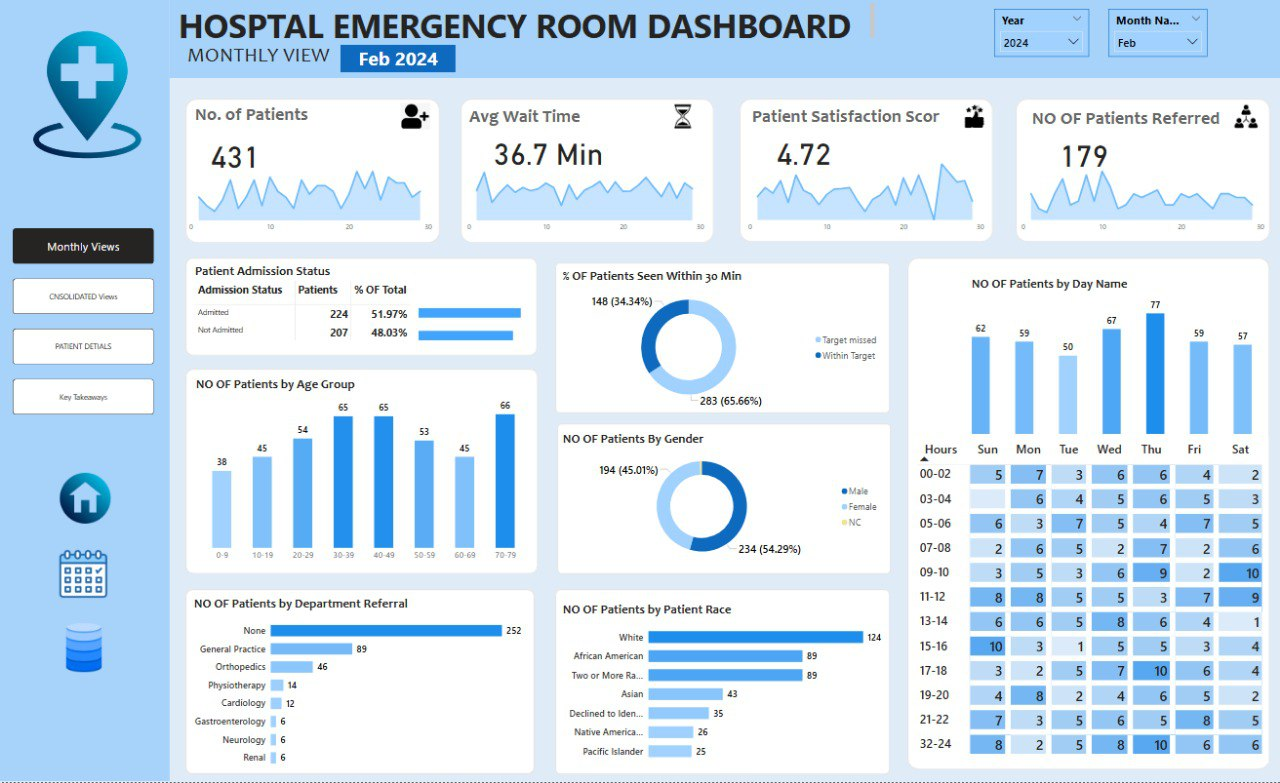

This screenshot's page, from the dashboard's own definition file:
{"tool":"powerbi","page":{"name":"Monthly Views","canvas":[2300,1400],"ordinal":0},"visuals":[{"type":"shape","box":[0,0,309.3,1399.9],"z":0},{"type":"shape","box":[309.3,0,1990.7,139.8],"z":1000},{"type":"textbox","box":[319.8,0,1256.6,80.4],"z":2000},{"type":"textbox","box":[335.6,69.9,304.1,61.2],"z":3000},{"type":"slicer","fields":{"Values":["Date Table.Year"]},"box":[1786.2,15.7,169.5,85.6],"z":4000},{"type":"shape","box":[336.5,176.5,456,259.2],"z":5000},{"type":"slicer","fields":{"Values":["Date Table.Month Name"]},"box":[1990.7,15.7,178.3,85.6],"z":6000},{"type":"card","fields":{"Values":["Hospital ER_Data.NO OF Patients"]},"box":[350.2,238.3,153.5,72.2],"z":7000},{"type":"textbox","box":[350.2,180.5,290.7,50.5],"z":8000},{"type":"areaChart","fields":{"Category":["Date Table.Date.Variation.Date Hierarchy.Day"],"Y":["Hospital ER_Data.NO OF Patients"]},"box":[332.2,278,454.9,146.2],"z":9000},{"type":"card","fields":{"Values":["Min(Date Table.MONTH & YEAR)"]},"box":[615.7,80.5,206.4,49],"z":10000},{"type":"shape","box":[831,176.5,454.1,259.2],"z":11000},{"type":"card","fields":{"Values":["Hospital ER_Data.Avg Wait Time"]},"box":[879.2,232.9,216.6,72.2],"z":12000},{"type":"textbox","box":[841.3,184.1,290.7,50.5],"z":13000},{"type":"areaChart","fields":{"Category":["Date Table.Date.Variation.Date Hierarchy.Day"],"Y":["Avg(Hospital ER_Data.Patient Waittime)"]},"box":[830.5,279.8,444.1,144.4],"z":14000},{"type":"shape","box":[1329.3,176.5,454.1,257.4],"z":15000},{"type":"card","fields":{"Values":["Hospital ER_Data.Satisfaction Score"]},"box":[1368.4,234.7,153.5,70.4],"z":16000},{"type":"textbox","box":[1346.8,184.1,417,43.3],"z":17000},{"type":"areaChart","fields":{"Category":["Date Table.Date.Variation.Date Hierarchy.Day"],"Y":["Hospital ER_Data.Satisfaction Score"]},"box":[1334.1,279.8,442.3,144.4],"z":18000},{"type":"shape","box":[1823.8,176.5,456,257.4],"z":19000},{"type":"card","fields":{"Values":["Hospital ER_Data.NO OF Patients Referred"]},"box":[1870.3,238.3,153.5,70.4],"z":20000},{"type":"textbox","box":[1848.7,187.8,375.5,52.4],"z":21000},{"type":"areaChart","fields":{"Category":["Date Table.Date.Variation.Date Hierarchy.Day"],"Y":["Hospital ER_Data.NO OF Patients Referred"]},"box":[1823.4,279.8,454.9,144.4],"z":22000},{"type":"shape","box":[336.5,461.5,630.6,176.5],"z":23000},{"type":"pivotTable","title":"Patient Admission Status","fields":{"Rows":["Hospital ER_Data.Admission Status"],"Values":["Hospital ER_Data.NO OF Patients","Divide(Hospital ER_Data.NO OF Patients, ScopedEval(Hospital ER_Data.NO OF Patients, []))"]},"box":[349.3,470.7,421,156.3],"z":24000},{"type":"barChart","fields":{"Category":["Hospital ER_Data.Admission Status"],"Y":["Hospital ER_Data.NO OF Patients"]},"box":[750.1,518.5,255.6,119.5],"z":25000},{"type":"shape","box":[337.6,660.8,631.9,368.3],"z":26000},{"type":"clusteredColumnChart","fields":{"Category":["Hospital ER_Data.Age Group"],"Y":["Hospital ER_Data.NO OF Patients"]},"box":[352,673.4,612,343],"z":27000},{"type":"shape","box":[337.3,1055.6,625.7,332.1],"z":28000},{"type":"clusteredBarChart","fields":{"Category":["Hospital ER_Data.Department Referral"],"Y":["Hospital ER_Data.NO OF Patients"]},"box":[348.4,1067,599.4,321.4],"z":29000},{"type":"shape","box":[1000,470.9,600,270.9],"z":30000},{"type":"donutChart","title":"% OF Patients Seen Within 30 Min ","fields":{"Category":["Hospital ER_Data.Waittime Status"],"Y":["Hospital ER_Data.NO OF Patients"]},"box":[1009.1,478.2,581.8,258.2],"z":31000},{"type":"shape","box":[1003.6,758.2,598.2,270.9],"z":32000},{"type":"donutChart","title":"NO OF Patients By Gender","fields":{"Y":["Hospital ER_Data.NO OF Patients"],"Category":["Hospital ER_Data.Patient Gender"]},"box":[1009.1,770.9,581.8,245.5],"z":33000},{"type":"shape","box":[1000,1056.4,600,332.7],"z":34000},{"type":"clusteredBarChart","fields":{"Y":["Hospital ER_Data.NO OF Patients"],"Category":["Hospital ER_Data.Patient Race"]},"box":[1009.1,1076.4,581.8,300],"z":35000},{"type":"shape","box":[1630.9,461.8,649.1,918.2],"z":36000},{"type":"pivotTable","fields":{"Rows":["Hospital ER_Data.Waittime Interval"],"Columns":["Date Table.Day Name"],"Values":["Hospital ER_Data.NO OF Patients"]},"box":[1643.6,783.6,634.5,585.5],"z":37000},{"type":"columnChart","fields":{"Category":["Date Table.Day Name"],"Y":["Hospital ER_Data.NO OF Patients"]},"box":[1740,492.7,514.5,290.9],"z":38000},{"type":"image","box":[1716.3,180,68.2,57],"z":39000},{"type":"image","box":[714.8,180,68.2,57],"z":40000},{"type":"image","box":[2196.9,180,80.4,57],"z":41000},{"type":"image","box":[1193.7,180,68,57],"z":42000},{"type":"image","box":[41.9,40.2,239.4,258.7],"z":43000},{"type":"pageNavigator","box":[28,409,253.4,337.3],"z":44000},{"type":"image","box":[94.4,1111.6,122.3,97.9],"z":45000},{"type":"image","box":[73.4,979.6,162.5,96.1],"z":46000},{"type":"image","box":[80.4,842.4,155.5,101.4],"z":47000}]}

Visuals, with their boxes in screenshot pixels (x1, y1, x2, y2), scaled from the page's 2300x1400 canvas onto the 1280x783 screenshot:
shape: [0, 0, 172, 782]
shape: [172, 0, 1279, 78]
textbox: [178, 0, 877, 45]
textbox: [187, 39, 356, 73]
slicer - Date Table.Year: [994, 9, 1088, 57]
shape: [187, 99, 441, 244]
slicer - Date Table.Month Name: [1108, 9, 1207, 57]
card - Hospital ER_Data.NO OF Patients: [195, 133, 280, 174]
textbox: [195, 101, 357, 129]
areaChart - Date Table.Date.Variation.Date Hierarchy.Day x Hospital ER_Data.NO OF Patients: [185, 155, 438, 237]
card - Min(Date Table.MONTH & YEAR): [343, 45, 458, 72]
shape: [462, 99, 715, 244]
card - Hospital ER_Data.Avg Wait Time: [489, 130, 610, 171]
textbox: [468, 103, 630, 131]
areaChart - Date Table.Date.Variation.Date Hierarchy.Day x Avg(Hospital ER_Data.Patient Waittime): [462, 156, 709, 237]
shape: [740, 99, 993, 243]
card - Hospital ER_Data.Satisfaction Score: [762, 131, 847, 171]
textbox: [750, 103, 982, 127]
areaChart - Date Table.Date.Variation.Date Hierarchy.Day x Hospital ER_Data.Satisfaction Score: [742, 156, 989, 237]
shape: [1015, 99, 1269, 243]
card - Hospital ER_Data.NO OF Patients Referred: [1041, 133, 1126, 173]
textbox: [1029, 105, 1238, 134]
areaChart - Date Table.Date.Variation.Date Hierarchy.Day x Hospital ER_Data.NO OF Patients Referred: [1015, 156, 1268, 237]
shape: [187, 258, 538, 357]
"Patient Admission Status" pivotTable: [194, 263, 429, 351]
barChart - Hospital ER_Data.Admission Status x Hospital ER_Data.NO OF Patients: [417, 290, 560, 357]
shape: [188, 370, 540, 576]
clusteredColumnChart - Hospital ER_Data.Age Group x Hospital ER_Data.NO OF Patients: [196, 377, 536, 568]
shape: [188, 590, 536, 776]
clusteredBarChart - Hospital ER_Data.Department Referral x Hospital ER_Data.NO OF Patients: [194, 597, 527, 777]
shape: [557, 263, 890, 415]
"% OF Patients Seen Within 30 Min " donutChart: [562, 267, 885, 412]
shape: [559, 424, 891, 576]
"NO OF Patients By Gender" donutChart: [562, 431, 885, 568]
shape: [557, 591, 890, 777]
clusteredBarChart - Hospital ER_Data.NO OF Patients x Hospital ER_Data.Patient Race: [562, 602, 885, 770]
shape: [908, 258, 1269, 772]
pivotTable - Hospital ER_Data.Waittime Interval x Date Table.Day Name: [915, 438, 1268, 766]
columnChart - Date Table.Day Name x Hospital ER_Data.NO OF Patients: [968, 276, 1255, 438]
image: [955, 101, 993, 133]
image: [398, 101, 436, 133]
image: [1223, 101, 1267, 133]
image: [664, 101, 702, 133]
image: [23, 22, 157, 167]
pageNavigator: [16, 229, 157, 417]
image: [53, 622, 121, 676]
image: [41, 548, 131, 602]
image: [45, 471, 131, 528]
